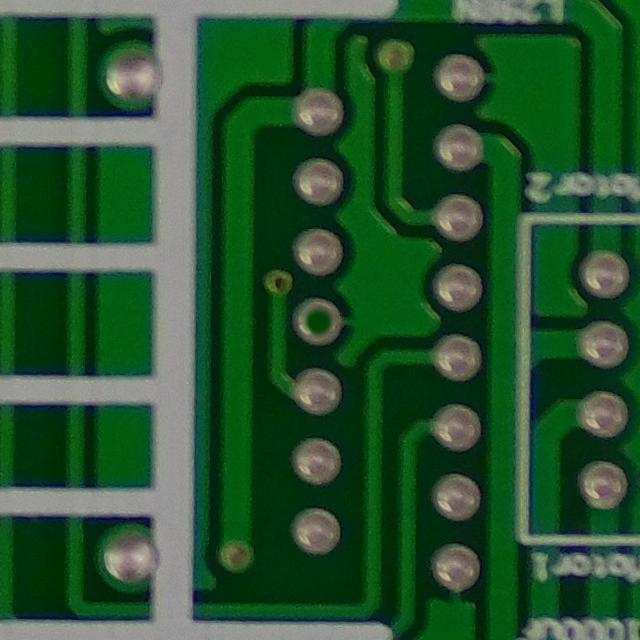missing_hole: (294, 291, 347, 350)
